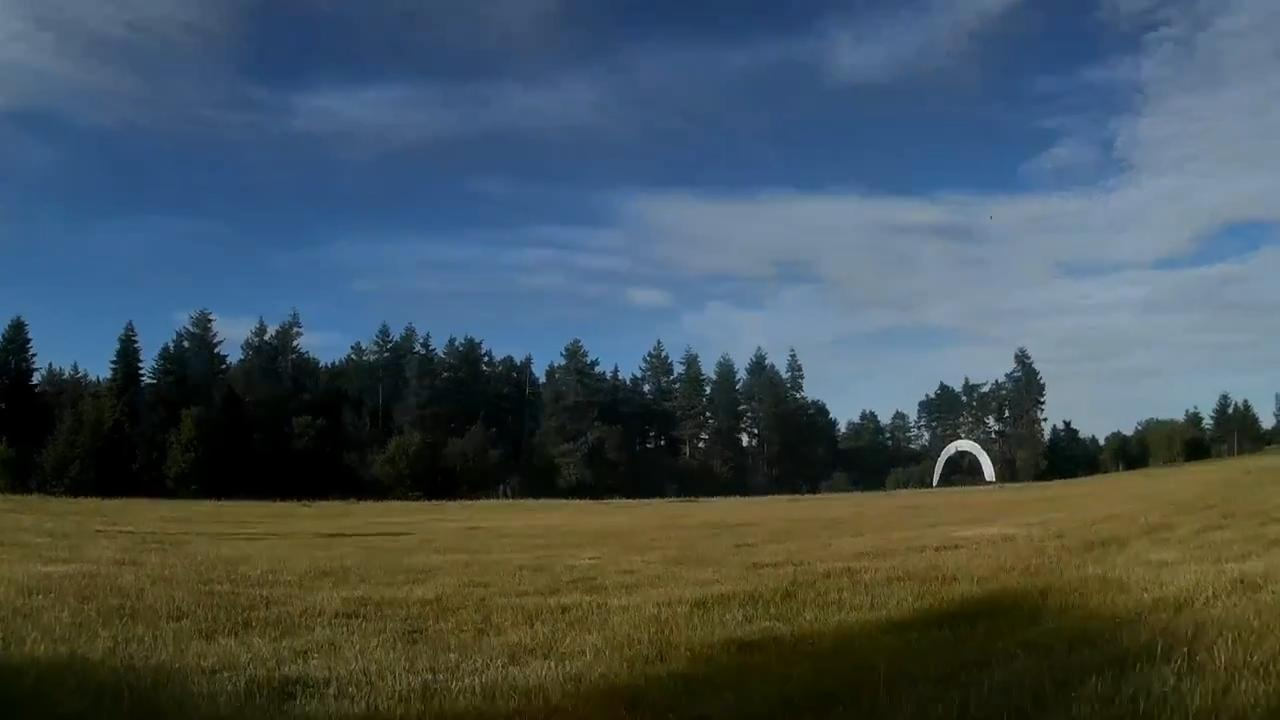gate: (930, 439, 992, 486)
